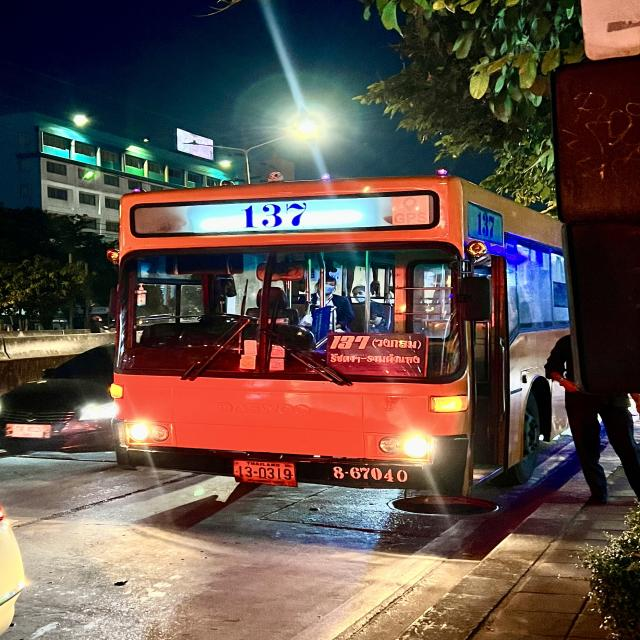BMTA-bus: (108, 176, 572, 499)
Bus Line Number: (223, 202, 327, 232)
Bus Side Number: (331, 462, 417, 490)
Destination Sign: (324, 330, 426, 380)
